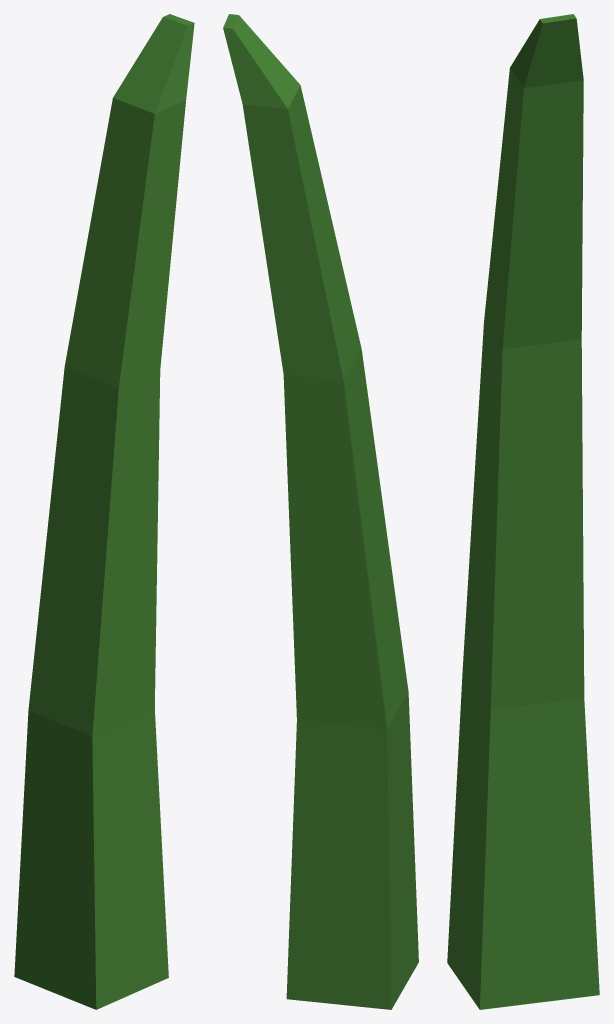
Rendered from grass_4.fbx.
3 renders of one model, left to right at view 1: azimuth 30°, elevation 25°; view 2: azimuth 150°, elevation 25°; view 3: azimuth 270°, elevation 25°, orthographic. The views are drawn at different scales.
Visible parts, largest first — view 1: grass_4; view 2: grass_4; view 3: grass_4.
Part boxes in pixels (x1=…): grass_4: x1=14, y1=14, x2=194, y2=1009; grass_4: x1=223, y1=14, x2=418, y2=1009; grass_4: x1=447, y1=14, x2=599, y2=1009.
Bounding box in the file's own units: 30.05 × 156 × 21.26.
